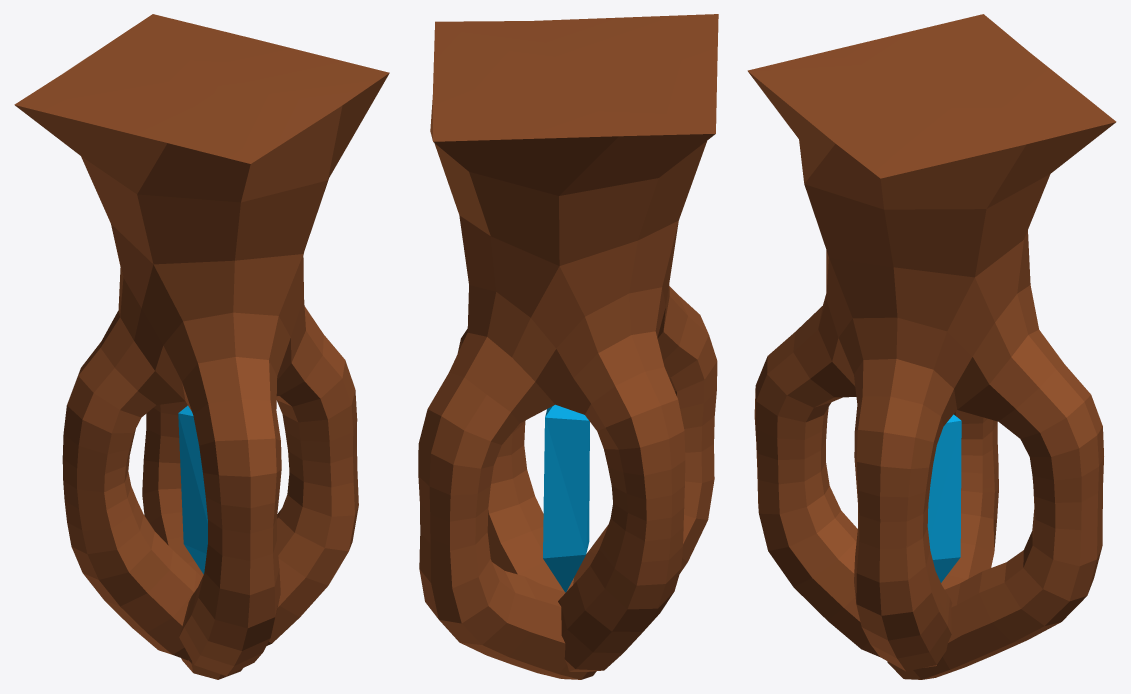
File: mahoganyRoot.fbx
3 renders of one model, left to right at view 1: azimuth 30°, elevation 25°; view 2: azimuth 150°, elevation 25°; view 3: azimuth 270°, elevation 25°, orthographic. The views are drawn at different scales.
Visible parts, largest first — view 1: mahoganyRoot; view 2: mahoganyRoot; view 3: mahoganyRoot.
Boxes of the visible parts, box(x1,y1,x2,y2) form: mahoganyRoot: box(14, 14, 389, 679); mahoganyRoot: box(418, 14, 718, 679); mahoganyRoot: box(747, 14, 1116, 679).
Bounding box in the file's own units: 42.33 × 73.53 × 42.35.
Materials: 1 (1 with a texture image).
